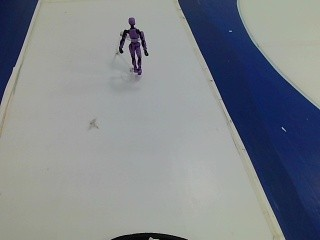pedestrian: (110, 13, 148, 79)
